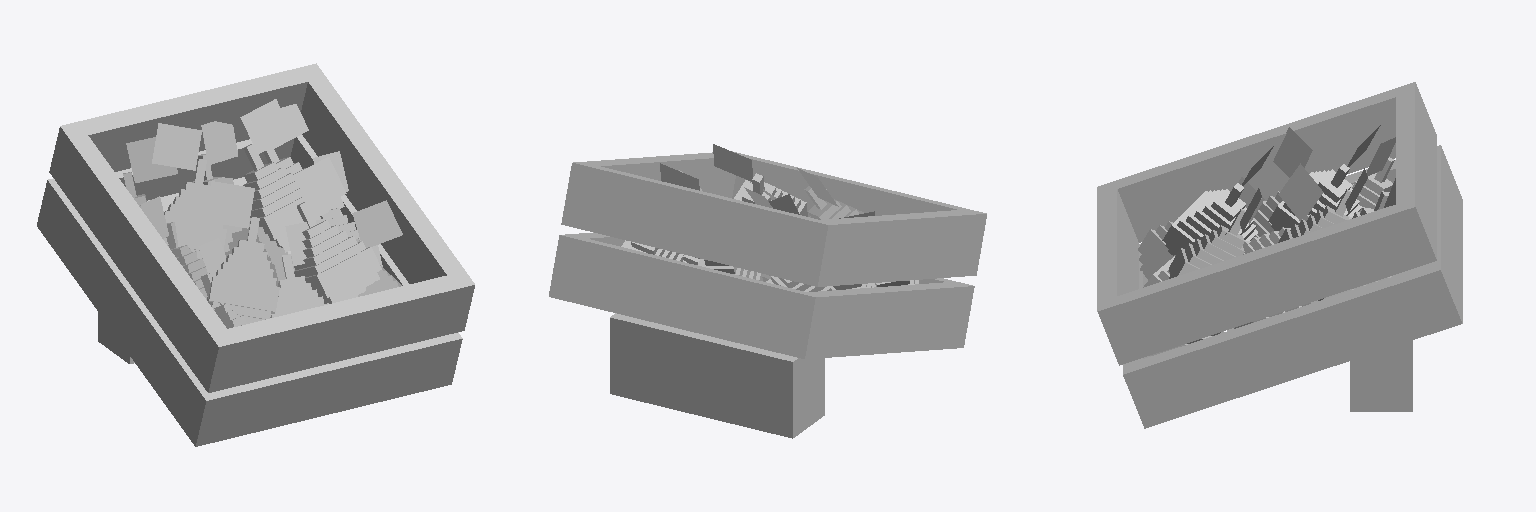
The model's file is 1759_pear_crate.obj.
3 views of the same model, side by side, from view 1: azimuth 30°, elevation 25°; view 2: azimuth 150°, elevation 25°; view 3: azimuth 270°, elevation 25° (orthographic).
Visible parts, largest first — view 1: Side2, peargreenleaf, Front4, Side1, Side4, Front3, Front2, peargreen3, peargreen1, peargreen2, peargreen, Front1 (+6 smaller); view 2: Block, Front1, Front2, Side2, Side1, Front4, Side4, peargreenleaf, Side3, peargreen7, peargreen6; view 3: Side4, Side3, Side2, peargreenleaf, Front2, Block, Front4, Front1, peargreen3, peargreen7, peargreen6, peargreen2 (+3 smaller).
Boxes of the visible parts, box(x1,y1,x2,y2) form: Side2: box(49, 122, 236, 392); peargreenleaf: box(126, 99, 402, 275); Front4: box(227, 276, 456, 388); Side1: box(37, 178, 224, 446); Side4: box(299, 63, 474, 334); Front3: box(214, 337, 443, 442); Front2: box(78, 68, 307, 171); peargreen3: box(163, 197, 401, 313); peargreen1: box(167, 181, 390, 328); peargreen2: box(164, 188, 395, 325); peargreen: box(173, 168, 385, 322); Front1: box(115, 138, 294, 200); Block: box(610, 313, 824, 438); Front1: box(567, 239, 803, 354); Front2: box(580, 166, 817, 281); Side2: box(799, 209, 986, 286); Side1: box(787, 282, 974, 358); Front4: box(732, 156, 965, 216); Side4: box(561, 151, 748, 228); peargreenleaf: box(660, 144, 874, 218); Side3: box(549, 232, 624, 300); peargreen7: box(631, 182, 841, 287); peargreen6: box(626, 182, 850, 290); Side4: box(1097, 198, 1436, 365); Side3: box(1123, 261, 1462, 428); Side2: box(1097, 82, 1436, 242); peargreenleaf: box(1225, 125, 1395, 234); Front2: box(1396, 91, 1436, 249); Block: box(1350, 340, 1412, 411); Front4: box(1097, 189, 1138, 302); Front1: box(1421, 154, 1462, 314); peargreen3: box(1138, 172, 1353, 351); peargreen7: box(1211, 169, 1392, 248); peargreen6: box(1202, 170, 1389, 256); peargreen2: box(1156, 171, 1365, 343).
Bounding box in the file's own units: 0.875 × 0.7285 × 1.08.